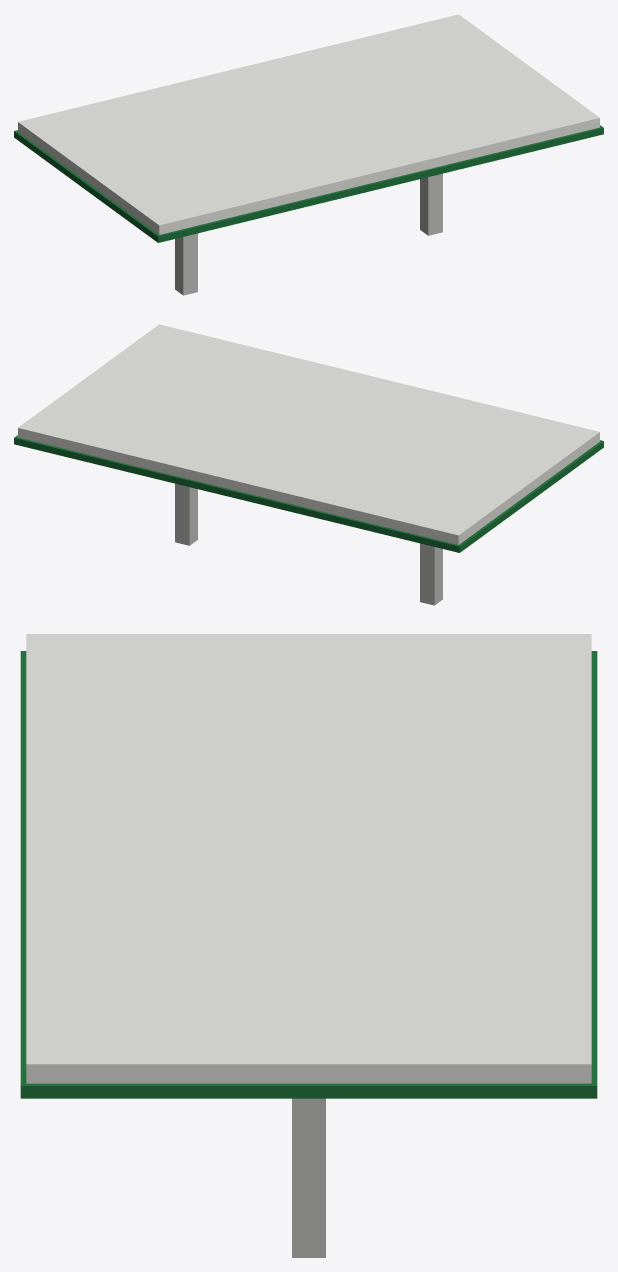
The model's file is FuelCanopy.fbx.
3 renders of one model, top to bottom at view 1: azimuth 30°, elevation 25°; view 2: azimuth 150°, elevation 25°; view 3: azimuth 270°, elevation 25°, orthographic. The views are drawn at different scales.
Parts seen in each view (by area): view 1: Roof, Fascia, Column-1, Column1; view 2: Roof, Fascia, Column-1, Column1; view 3: Roof, Fascia, Column1.
Boxes of the visible parts, x1,y1,x2,y2 form: Roof: (18, 14, 599, 234); Fascia: (14, 125, 603, 242); Column-1: (175, 233, 197, 295); Column1: (420, 173, 442, 235); Roof: (18, 324, 599, 544); Fascia: (14, 435, 603, 552); Column-1: (420, 543, 442, 605); Column1: (175, 483, 197, 545); Roof: (26, 634, 591, 1083); Fascia: (20, 651, 597, 1098); Column1: (292, 1098, 325, 1257).
Bounding box in the file's own units: 1820 × 1020 × 550.
